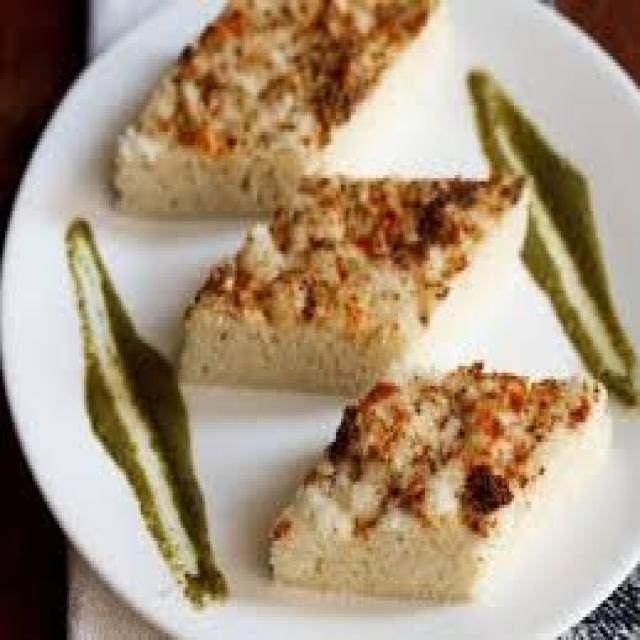DHOKLA: (268, 379, 608, 608), (174, 177, 528, 384), (109, 2, 436, 215)
